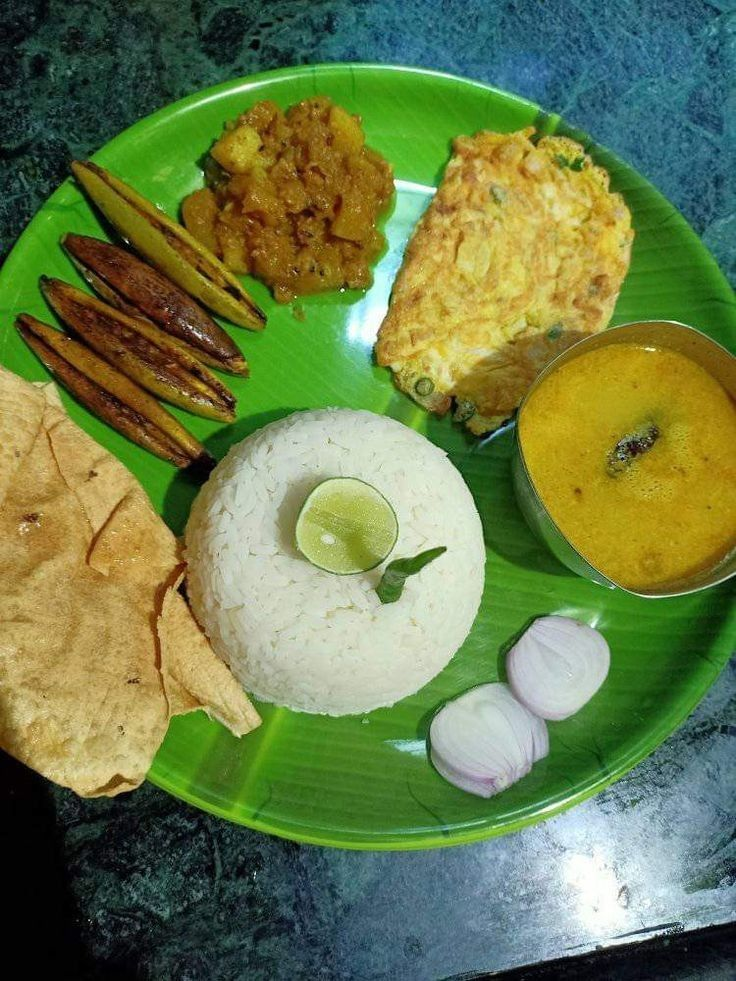bhat: (190, 412, 480, 716)
dal: (520, 344, 728, 595)
sabji: (196, 102, 381, 296)
